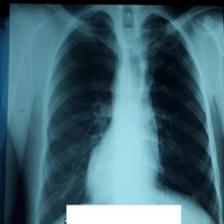tuberculosis: (40, 5, 224, 224)
